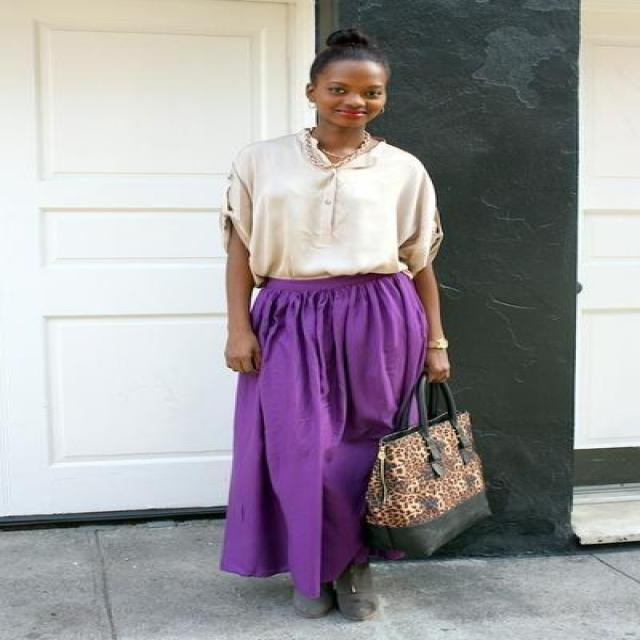bag: (355, 404, 485, 526)
shirt: (224, 128, 440, 282)
shoe: (276, 582, 374, 622)
skirt: (179, 272, 440, 594)
